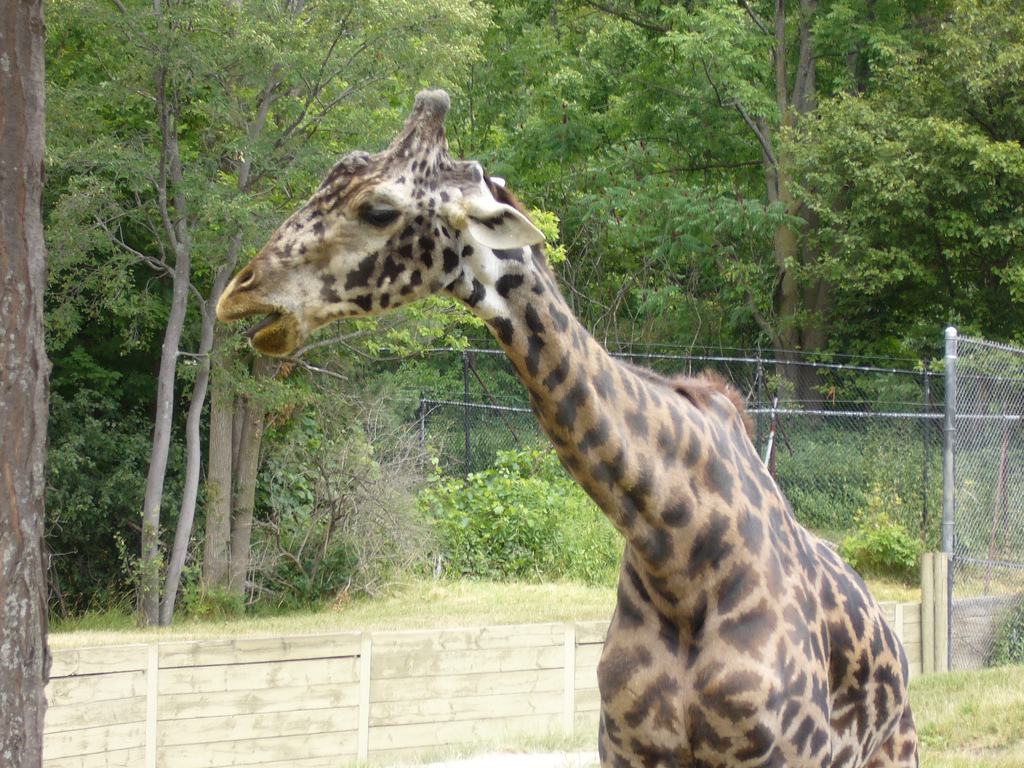giraffe: (223, 115, 911, 768)
